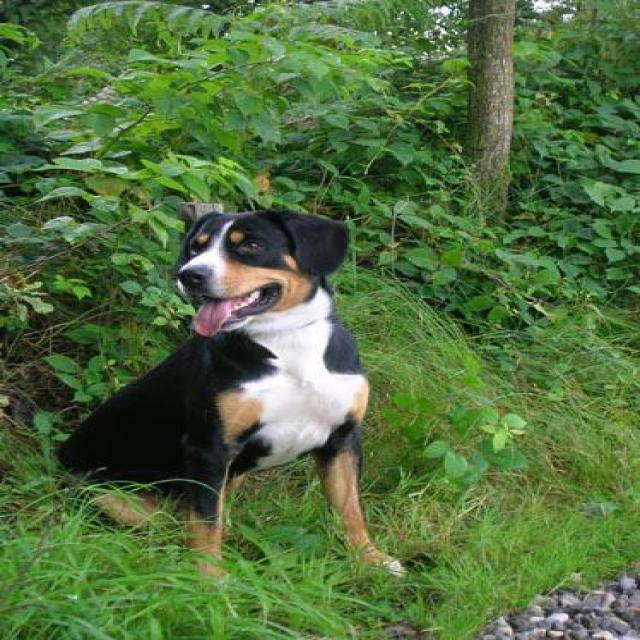adult_dog: (42, 209, 403, 582)
